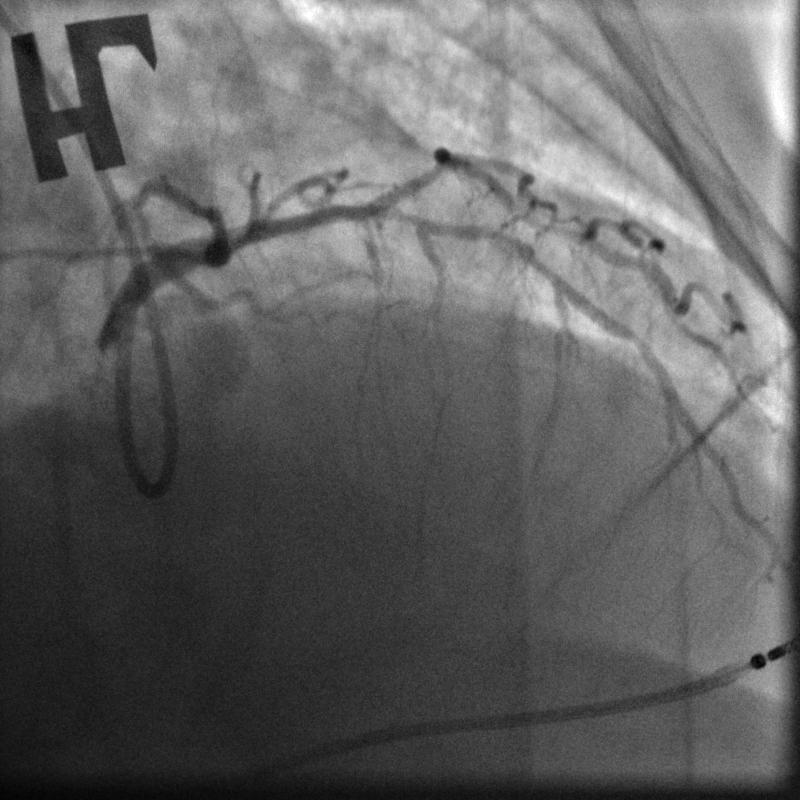Stenosis: (471, 220, 539, 262)
